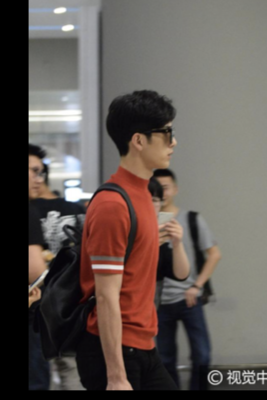without_mask: (140, 124, 178, 172), (152, 183, 176, 208), (29, 164, 45, 201)
